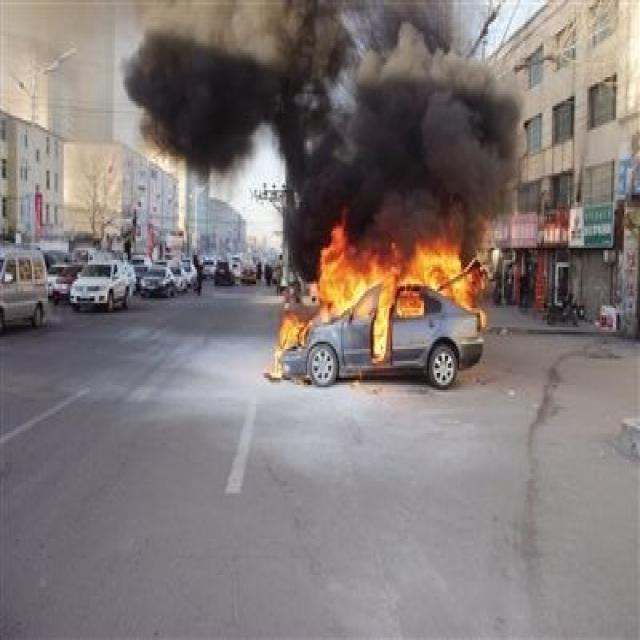Fire: (262, 224, 490, 382)
Smoke: (119, 2, 526, 284)
